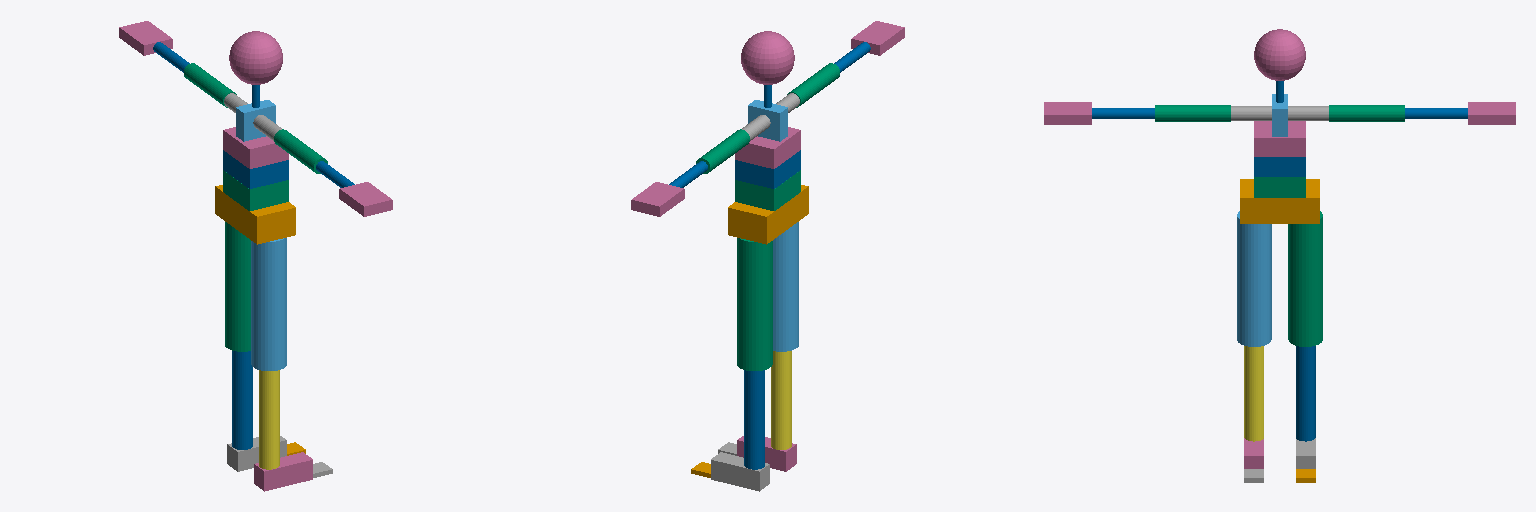
--- Render facts (derived) ---
3 views of the same robot in one strip: view 1: azimuth 30°, elevation 25°; view 2: azimuth 150°, elevation 25°; view 3: azimuth 270°, elevation 25° (orthographic).
Robot: XSensStyleModel_template — 49 links, 48 joints (48 revolute); root link Pelvis; default pose: all joints at 0.
Visible links, largest first — view 1: RightUpperLeg, LeftUpperLeg, Pelvis, Head, RightLowerLeg, LeftLowerLeg, T12, RightFoot, L5, L3, RightHand, LeftHand (+4 smaller); view 2: LeftUpperLeg, RightUpperLeg, Pelvis, Head, LeftLowerLeg, RightLowerLeg, T12, LeftFoot, L5, L3, LeftHand, RightHand (+4 smaller); view 3: RightUpperLeg, LeftUpperLeg, Pelvis, Head, RightLowerLeg, LeftLowerLeg, T12, RightUpperArm, LeftUpperArm, RightHand, LeftHand, L5 (+8 smaller).
Boxes of the visible links, <box> form: RightUpperLeg: <box>251,238,286,370</box>; LeftUpperLeg: <box>225,222,250,351</box>; Pelvis: <box>215,185,295,244</box>; Head: <box>229,31,282,84</box>; RightLowerLeg: <box>259,370,279,469</box>; LeftLowerLeg: <box>232,351,252,449</box>; T12: <box>223,127,288,168</box>; RightFoot: <box>254,452,312,491</box>; L5: <box>223,170,288,210</box>; L3: <box>223,150,288,188</box>; RightHand: <box>339,182,392,216</box>; LeftHand: <box>119,21,172,55</box>; LeftUpperLeg: <box>737,238,772,370</box>; RightUpperLeg: <box>773,222,798,351</box>; Pelvis: <box>728,185,808,244</box>; Head: <box>741,31,794,84</box>; LeftLowerLeg: <box>744,370,764,469</box>; RightLowerLeg: <box>771,351,791,449</box>; T12: <box>735,127,800,168</box>; LeftFoot: <box>711,452,769,491</box>; L5: <box>735,170,800,210</box>; L3: <box>735,150,800,188</box>; LeftHand: <box>631,182,684,216</box>; RightHand: <box>851,21,904,55</box>; RightUpperLeg: <box>1237,211,1271,346</box>; LeftUpperLeg: <box>1288,211,1322,346</box>; Pelvis: <box>1240,179,1319,223</box>; Head: <box>1254,29,1305,80</box>; RightLowerLeg: <box>1244,346,1263,441</box>; LeftLowerLeg: <box>1296,346,1315,441</box>; T12: <box>1254,121,1305,156</box>; RightUpperArm: <box>1155,105,1230,121</box>; LeftUpperArm: <box>1329,105,1404,121</box>; RightHand: <box>1044,102,1091,124</box>; LeftHand: <box>1468,102,1515,124</box>; L5: <box>1254,177,1305,197</box>.
Bounding box of the posed robot: 0.346 × 1.8 × 1.8 m (x, y, z).
Geometry: primitives only (box / cylinder / sphere), no mesh files.

URDF robot description (XSensStyleModel_template):
<!--URDF MODEL 48 DoFs-->

<robot name="XSensStyleModel_template">
<!--To open this model with Gazebo replace the null masses, inertias and dimensions of the 'fake links f1 and f2'-->
    <!--LINKS-->
	<!--Link base (1)-->
	<link name="Pelvis">
        <inertial>
            <mass value="5.696"/>
			<!--COM origin wrt pHipOrigin-->
            <origin xyz="0           0    0.059167" rpy="0 0 0" />
            <inertia ixx="0.050919" iyy="0.019195" izz="0.058056" ixy="0" ixz="0" iyz="0"/>
        </inertial>

        <visual>
			<!--box origin wrt pHipOrigin-->
            <origin xyz="0           0    0.059167" rpy="0 0 0" />
            <geometry>
                <box size="0.16655     0.30753      0.1127"/>
            </geometry>
        </visual>

        <collision>
			<!--box origin wrt pHipOrigin-->
            <origin xyz="0           0    0.059167" rpy="0 0 0" />
            <geometry>
                <box size="0.16655     0.30753      0.1127"/>
            </geometry>
        </collision>

    </link>
    <!--Chain from (2) to (7)-->
	<link name="L5_f1">
        <inertial>
            <mass value="0"/>
            <origin xyz="0 0 0" rpy="0 0 0" />
            <inertia ixx="0" iyy="0" izz="0" ixy="0" ixz="0" iyz="0"/>
        </inertial>
    </link>
	<link name="L5">
        <inertial>
            <mass value="7.2624"/>
			<!--COM origin wrt jL5S1-->
            <origin xyz="0           0    0.044881" rpy="0 0 0" />
            <inertia ixx="0.02831" iyy="0.021663" izz="0.040221" ixy="0" ixz="0" iyz="0"/>
        </inertial>

        <visual>
			<!--box origin origin wrt jL5S1-->
            <origin xyz="0           0    0.044881" rpy="0 0 0" />
            <geometry>
                <box size="0.16655     0.19678    0.089762"/>
            </geometry>
        </visual>

        <collision>
			<!--box origin origin wrt jL5S1-->
            <origin xyz="0           0    0.044881" rpy="0 0 0" />
            <geometry>
                <box size="0.16655     0.19678    0.089762"/>
            </geometry>
        </collision>
    </link>
	<link name="L3_f1">
        <inertial>
            <mass value="0"/>
            <origin xyz="0 0 0" rpy="0 0 0" />
            <inertia ixx="0" iyy="0" izz="0" ixy="0" ixz="0" iyz="0"/>
        </inertial>
    </link>
	<link name="L3">
        <inertial>
            <mass value="7.2624"/>
			<!--COM origin wrt jL4L3-->
            <origin xyz="0           0    0.040536" rpy="0 0 0" />
            <inertia ixx="0.027412" iyy="0.020764" izz="0.040221" ixy="0" ixz="0" iyz="0"/>
        </inertial>

        <visual>
			<!--box origin origin wrt jL4L3-->
            <origin xyz="0           0    0.040536" rpy="0 0 0" />
            <geometry>
                <box size="0.16655     0.19678    0.081071"/>
            </geometry>
        </visual>

        <collision>
			<!--box origin origin wrt jL4L3-->
            <origin xyz="0           0    0.040536" rpy="0 0 0" />
            <geometry>
                <box size="0.16655     0.19678    0.081071"/>
            </geometry>
        </collision>
    </link>
	<link name="T12_f1">
        <inertial>
            <mass value="0"/>
            <origin xyz="0 0 0" rpy="0 0 0" />
            <inertia ixx="0" iyy="0" izz="0" ixy="0" ixz="0" iyz="0"/>
        </inertial>
    </link>
	<link name="T12">
        <inertial>
            <mass value="7.2624"/>
			<!--COM origin wrt jL1T12-->
            <origin xyz="0           0    0.040536" rpy="0 0 0" />
            <inertia ixx="0.027412" iyy="0.020764" izz="0.040221" ixy="0" ixz="0" iyz="0"/>
        </inertial>

        <visual>
			<!--box origin origin wrt jL1T12-->
            <origin xyz="0           0    0.040536" rpy="0 0 0" />
            <geometry>
                <box size="0.16655     0.19678    0.081071"/>
            </geometry>
        </visual>

        <collision>
			<!--box origin origin wrt jL1T12-->
            <origin xyz="0           0    0.040536" rpy="0 0 0" />
            <geometry>
                <box size="0.16655     0.19678    0.081071"/>
            </geometry>
        </collision>
    </link>
	<link name="T8_f1">
        <inertial>
            <mass value="0"/>
            <origin xyz="0 0 0" rpy="0 0 0" />
            <inertia ixx="0" iyy="0" izz="0" ixy="0" ixz="0" iyz="0"/>
        </inertial>
    </link>
	<link name="T8_f2">
        <inertial>
            <mass value="0"/>
            <origin xyz="0 0 0" rpy="0 0 0" />
            <inertia ixx="0" iyy="0" izz="0" ixy="0" ixz="0" iyz="0"/>
        </inertial>
    </link>
	<link name="T8">
        <inertial>
            <mass value="2.848"/>
			<!--COM origin wrt jT9T8-->
            <origin xyz="0           0    0.058058" rpy="0 0 0" />
            <inertia ixx="0.0040381" iyy="0.0077541" izz="0.0053923" ixy="0" ixz="0" iyz="0"/>
        </inertial>

        <visual>
			<!--box origin wrt jT9T8-->
            <origin xyz="0           0    0.058058" rpy="0 0 0" />
            <geometry>
                <box size="0.13852    0.059426     0.11612"/>
            </geometry>
        </visual>

        <collision>
			<!--box origin wrt jT9T8-->
            <origin xyz="0           0    0.058058" rpy="0 0 0" />
            <geometry>
                <box size="0.13852    0.059426     0.11612"/>
            </geometry>
        </collision>

    </link>
	<link name="Neck_f1">
        <inertial>
            <mass value="0"/>
            <origin xyz="0 0 0" rpy="0 0 0" />
            <inertia ixx="0" iyy="0" izz="0" ixy="0" ixz="0" iyz="0"/>
        </inertial>
    </link>
	<link name="Neck_f2">
        <inertial>
            <mass value="0"/>
            <origin xyz="0 0 0" rpy="0 0 0" />
            <inertia ixx="0" iyy="0" izz="0" ixy="0" ixz="0" iyz="0"/>
        </inertial>
    </link>
	<link name="Neck">
        <inertial>
            <mass value="0.8544"/>
			<!--COM origin wrt jT1C7-->
            <origin xyz="0           0    0.048176" rpy="0 0 0" />
            <inertia ixx="0.00086442" iyy="0.00086442" izz="0.00040681" ixy="0" ixz="0" iyz="0"/>
        </inertial>

        <visual>
			<!--box origin wrt jT1C7-->
            <origin xyz="0           0    0.048176" rpy="0 0 0" />
            <geometry>
		<cylinder length="0.096353" radius="0.01543"/>
            </geometry>
        </visual>

        <collision>
			<!--box origin wrt jT1C7-->
            <origin xyz="0           0    0.048176" rpy="0 0 0" />
            <geometry>
                <cylinder length="0.096353" radius="0.01543"/>
            </geometry>
        </collision>
    </link>
	<link name="Head_f1">
        <inertial>
            <mass value="0"/>
            <origin xyz="0 0 0" rpy="0 0 0" />
            <inertia ixx="0" iyy="0" izz="0" ixy="0" ixz="0" iyz="0"/>
        </inertial>
    </link>
	<link name="Head">
        <inertial>
            <mass value="2.5632"/>
			<!--COM origin wrt jC1Head-->
            <origin xyz="0           0    0.099452" rpy="0 0 0" />
            <inertia ixx="0.010141" iyy="0.010141" izz="0.010141" ixy="0" ixz="0" iyz="0"/>
        </inertial>

        <visual>
			<!--boc origin wrt jC1Head-->
            <origin xyz="0           0    0.099452" rpy="0 0 0" />
            <geometry>
                <sphere radius="0.099452"/>
            </geometry>
        </visual>

        <collision>
			<!--box origin wrt jC1Head-->
            <origin xyz="0           0    0.099452" rpy="0 0 0" />
            <geometry>
                <sphere radius="0.099452"/>
            </geometry>
        </collision>

    </link>
	<!--Chain from (8) to (11)-->
	<link name="RightShoulder">
        <inertial>
            <mass value="2.2072"/>
			<!--COM origin wrt jRightC7Shoulder-->
            <origin xyz="0   -0.078854           0" rpy="0 0 0" />
            <inertia ixx="0.0050082" iyy="0.00086686" izz="0.0050082" ixy="0" ixz="0" iyz="0"/>
        </inertial>

        <visual>
			<!--box origin wrt jRightC7Shoulder. RPY rotated of pi/2.-->
            <origin xyz="0   -0.078854           0" rpy="1.5708 0 0" />
            <geometry>
                <cylinder length="0.15771" radius="0.028026"/>
            </geometry>
        </visual>

        <collision>
			<!--box origin wrt jRightC7Shoulder. RPY rotated of pi/2.-->
            <origin xyz="0   -0.078854           0" rpy="1.5708 0 0" />
            <geometry>
                <cylinder length="0.15771" radius="0.028026"/>
            </geometry>
        </collision>

    </link>
	<link name="RightUpperArm_f1">
        <inertial>
            <mass value="0"/>
            <origin xyz="0 0 0" rpy="0 0 0" />
            <inertia ixx="0" iyy="0" izz="0" ixy="0" ixz="0" iyz="0"/>
        </inertial>
    </link>
	<link name="RightUpperArm_f2">
        <inertial>
            <mass value="0"/>
            <origin xyz="0 0 0" rpy="0 0 0" />
            <inertia ixx="0" iyy="0" izz="0" ixy="0" ixz="0" iyz="0"/>
        </inertial>
    </link>
    <link name="RightUpperArm">
        <inertial>
            <mass value="2.136"/>
			<!--COM origin wrt jRightShoulder-->
            <origin xyz="0    -0.14573           0" rpy="0 0 0" />
            <inertia ixx="0.015663" iyy="0.0010831" izz="0.015663" ixy="0" ixz="0" iyz="0"/>
        </inertial>

        <visual>
			<!--box origin wrt jRightShoulder. RPY rotated of pi/2.-->
            <origin xyz="0    -0.14573           0" rpy="1.5708 0 0" />
            <geometry>
                <cylinder length="0.29147" radius="0.031846"/>
            </geometry>
        </visual>

        <collision>
			<!--box origin wrt jRightShoulder. RPY rotated of pi/2.-->
            <origin xyz="0    -0.14573           0" rpy="1.5708 0 0" />
            <geometry>
                <cylinder length="0.29147" radius="0.031846"/>
            </geometry>
        </collision>

    </link>
	<link name="RightForeArm_f1">
        <inertial>
            <mass value="0"/>
            <origin xyz="0 0 0" rpy="0 0 0" />
            <inertia ixx="0" iyy="0" izz="0" ixy="0" ixz="0" iyz="0"/>
        </inertial>
    </link>
	<link name="RightForeArm">
        <inertial>
            <mass value="1.424"/>
			<!--COM origin wrt jRightElbow-->
            <origin xyz="0    -0.12047           0" rpy="0 0 0" />
            <inertia ixx="0.0070493" iyy="0.00032093" izz="0.0070493" ixy="0" ixz="0" iyz="0"/>
        </inertial>

        <visual>
			<!--box origin wrt jRightElbow. RPY rotated of pi/2.-->
            <origin xyz="0    -0.12047           0" rpy="1.5708 0 0" />
            <geometry>
                <cylinder length="0.24094" radius="0.021231"/>
            </geometry>
        </visual>

        <collision>
			<!--box origin wrt jRightElbow. RPY rotated of pi/2.-->
            <origin xyz="0    -0.12047           0" rpy="1.5708 0 0" />
            <geometry>
                <cylinder length="0.24094" radius="0.021231"/>
            </geometry>
        </collision>

    </link>
	<link name="RightHand_f1">
        <inertial>
            <mass value="0"/>
            <origin xyz="0 0 0" rpy="0 0 0" />
            <inertia ixx="0" iyy="0" izz="0" ixy="0" ixz="0" iyz="0"/>
        </inertial>
    </link>
	<link name="RightHand">
        <inertial>
            <mass value="0.4272"/>
			<!--COM origin wrt jRightWrist-->
            <origin xyz="0   -0.090968           0" rpy="0 0 0" />
            <inertia ixx="0.0012426" iyy="0.00058792" izz="0.0017021" ixy="0" ixz="0" iyz="0"/>
        </inertial>

        <visual>
			<!--box origin wrt jRightWrist-->
            <origin xyz="0   -0.090968           0" rpy="0 0 0" />
            <geometry>
                <box size="0.12129     0.18194    0.042461"/>
            </geometry>
        </visual>

        <collision>
			<!--box origin wrt jRightWrist-->
            <origin xyz="0   -0.090968           0" rpy="0 0 0" />
            <geometry>
                <box size="0.12129     0.18194    0.042461"/>
            </geometry>
        </collision>

    </link>
	<!--Chain from (12) to (15)-->
	<link name="LeftShoulder">
        <inertial>
            <mass value="2.2072"/>
			<!--COM origin wrt jLeftC7Shoulder-->
            <origin xyz="0    0.078854           0" rpy="0 0 0" />
            <inertia ixx="0.0050082" iyy="0.00086686" izz="0.0050082" ixy="0" ixz="0" iyz="0"/>
        </inertial>

        <visual>
			<!--box origin wrt jLeftC7Shoulder. RPY rotated of pi/2.-->
            <origin xyz="0    0.078854           0" rpy="1.5708 0 0" />
            <geometry>
                <cylinder length="0.15771" radius="0.028026"/>
            </geometry>
        </visual>

        <collision>
			<!--box origin wrt jLeftC7Shoulder. RPY rotated of pi/2.-->
            <origin xyz="0    0.078854           0" rpy="1.5708 0 0" />
            <geometry>
                <cylinder length="0.15771" radius="0.028026"/>
            </geometry>
        </collision>

    </link>
	<link name="LeftUpperArm_f1">
        <inertial>
            <mass value="0"/>
            <origin xyz="0 0 0" rpy="0 0 0" />
            <inertia ixx="0" iyy="0" izz="0" ixy="0" ixz="0" iyz="0"/>
        </inertial>
    </link>
	<link name="LeftUpperArm_f2">
        <inertial>
            <mass value="0"/>
            <origin xyz="0 0 0" rpy="0 0 0" />
            <inertia ixx="0" iyy="0" izz="0" ixy="0" ixz="0" iyz="0"/>
        </inertial>
    </link>
	<link name="LeftUpperArm">
        <inertial>
            <mass value="2.136"/>
			<!--COM origin wrt jLeftShoulder-->
            <origin xyz="0     0.14573           0" rpy="0 0 0" />
            <inertia ixx="0.015663" iyy="0.0010831" izz="0.015663" ixy="0" ixz="0" iyz="0"/>
        </inertial>

        <visual>
			<!--box origin wrt jLeftShoulder. RPY rotated of pi/2.-->
            <origin xyz="0     0.14573           0" rpy="1.5708 0 0" />
            <geometry>
                <cylinder length="0.29147" radius="0.031846"/>
            </geometry>
        </visual>

        <collision>
			<!--box origin wrt jLeftShoulder. RPY rotated of pi/2.-->
            <origin xyz="0     0.14573           0" rpy="1.5708 0 0" />
            <geometry>
                <cylinder length="0.29147" radius="0.031846"/>
            </geometry>
        </collision>

    </link>
	<link name="LeftForeArm_f1">
        <inertial>
            <mass value="0"/>
            <origin xyz="0 0 0" rpy="0 0 0" />
            <inertia ixx="0" iyy="0" izz="0" ixy="0" ixz="0" iyz="0"/>
        </inertial>
    </link>
	<link name="LeftForeArm">
        <inertial>
            <mass value="1.424"/>
			<!--COM origin wrt jLeftElbow-->
            <origin xyz="0     0.12047           0" rpy="0 0 0" />
            <inertia ixx="0.0070493" iyy="0.00032093" izz="0.0070493" ixy="0" ixz="0" iyz="0"/>
        </inertial>

        <visual>
			<!--box origin wrt jLeftElbow. RPY rotated of pi/2.-->
            <origin xyz="0     0.12047           0" rpy="1.5708 0 0" />
            <geometry>
                <cylinder length="0.24094" radius="0.021231"/>
            </geometry>
        </visual>

        <collision>
			<!--box origin wrt jLeftElbow. RPY rotated of pi/2.-->
            <origin xyz="0     0.12047           0" rpy="1.5708 0 0" />
            <geometry>
                <cylinder length="0.24094" radius="0.021231"/>
            </geometry>
        </collision>

    </link>
	<link name="LeftHand_f1">
        <inertial>
            <mass value="0"/>
            <origin xyz="0 0 0" rpy="0 0 0" />
            <inertia ixx="0" iyy="0" izz="0" ixy="0" ixz="0" iyz="0"/>
        </inertial>
    </link>
	<link name="LeftHand">
        <inertial>
            <mass value="0.4272"/>
			<!--COM origin wrt jLeftWrist-->
            <origin xyz="0    0.090968           0" rpy="0 0 0" />
            <inertia ixx="0.0012426" iyy="0.00058792" izz="0.0017021" ixy="0" ixz="0" iyz="0"/>
        </inertial>

        <visual>
			<!--COM origin wrt jLeftWrist-->
            <origin xyz="0    0.090968           0" rpy="0 0 0" />
            <geometry>
                <box size="0.12129     0.18194    0.042461"/>
            </geometry>
        </visual>

        <collision>
			<!--COM origin wrt jLeftWrist-->
            <origin xyz="0    0.090968           0" rpy="0 0 0" />
            <geometry>
                <box size="0.12129     0.18194    0.042461"/>
            </geometry>
        </collision>

    </link>
	<!--Chain from (16) to (19)-->
	<link name="RightUpperLeg_f1">
        <inertial>
            <mass value="0"/>
            <origin xyz="0 0 0" rpy="0 0 0" />
            <inertia ixx="0" iyy="0" izz="0" ixy="0" ixz="0" iyz="0"/>
        </inertial>
    </link>
	<link name="RightUpperLeg_f2">
        <inertial>
            <mass value="0"/>
            <origin xyz="0 0 0" rpy="0 0 0" />
            <inertia ixx="0" iyy="0" izz="0" ixy="0" ixz="0" iyz="0"/>
        </inertial>
    </link>
    <link name="RightUpperLeg">
        <inertial>
            <mass value="8.9"/>
			<!--COM origin wrt jRightHip-->
            <origin xyz="0           0    -0.26304" rpy="0 0 0" />
            <inertia ixx="0.21503" iyy="0.21503" izz="0.019525" ixy="0" ixz="0" iyz="0"/>
        </inertial>

        <visual>
			<!--box origin wrt jRightHip-->
            <origin xyz="0           0    -0.26304" rpy="0 0 0" />
            <geometry>
                <cylinder length="0.52609" radius="0.066238"/>
            </geometry>
        </visual>

        <collision>
			<!--box origin wrt jRightHip-->
            <origin xyz="0           0    -0.26304" rpy="0 0 0" />
            <geometry>
                <cylinder length="0.52609" radius="0.066238"/>
            </geometry>
        </collision>

    </link>
	<link name="RightLowerLeg_f1">
        <inertial>
            <mass value="0"/>
            <origin xyz="0 0 0" rpy="0 0 0" />
            <inertia ixx="0" iyy="0" izz="0" ixy="0" ixz="0" iyz="0"/>
        </inertial>
    </link>
    <link name="RightLowerLeg">
        <inertial>
            <mass value="2.5988"/>
			<!--COM origin wrt jRightKnee-->
            <origin xyz="0           0    -0.20614" rpy="0 0 0" />
            <inertia ixx="0.037755" iyy="0.037755" izz="0.0018892" ixy="0" ixz="0" iyz="0"/>
        </inertial>

        <visual>
			<!--box origin wrt jRightKnee-->
            <origin xyz="0           0    -0.20614" rpy="0 0 0" />
            <geometry>
                <cylinder length="0.41228" radius="0.03813"/>
            </geometry>
        </visual>

        <collision>
			<!--box origin wrt jRightKnee-->
            <origin xyz="0           0    -0.20614" rpy="0 0 0" />
            <geometry>
                <cylinder length="0.41228" radius="0.03813"/>
            </geometry>
        </collision>

    </link>
	<link name="RightFoot_f1">
        <inertial>
            <mass value="0"/>
            <origin xyz="0 0 0" rpy="0 0 0" />
            <inertia ixx="0" iyy="0" izz="0" ixy="0" ixz="0" iyz="0"/>
        </inertial>
    </link>
	<link name="RightFoot_f2">
        <inertial>
            <mass value="0"/>
            <origin xyz="0 0 0" rpy="0 0 0" />
            <inertia ixx="0" iyy="0" izz="0" ixy="0" ixz="0" iyz="0"/>
        </inertial>
    </link>
    <link name="RightFoot">
        <inertial>
            <mass value="0.9256"/>
			<!--COM origin wrt jRightAnkle-->
            <origin xyz="0.061581           0   -0.040628" rpy="0 0 0" />
            <inertia ixx="0.00095786" iyy="0.0038434" izz="0.0037827" ixy="0" ixz="0" iyz="0"/>
        </inertial>

        <visual>
			<!--box origin wrt jRightAnkle-->
	    	<origin xyz="0.061581           0   -0.040628" rpy="0 0 0" />
            <geometry>
                <box size="0.20791     0.07626    0.081257"/>
            </geometry>
        </visual>

        <collision>
			<!--box origin wrt jRightAnkle-->
		    <origin xyz="0.061581           0   -0.040628" rpy="0 0 0" />
	            <geometry>
	                <box size="0.20791     0.07626    0.081257"/>
	            </geometry>
        </collision>

    </link>
    <link name="RightToe">
        <inertial>
            <mass value="0.1068"/>
			<!--COM origin wrt jRightBallFoot-->
            <origin xyz="0.041044           0           0" rpy="0 0 0" />
            <inertia ixx="5.4675e-05" iyy="6.289e-05" izz="0.00011173" ixy="0" ixz="0" iyz="0"/>
        </inertial>

        <visual>
			<!--box origin wrt jRightBallFoot-->
            <origin xyz="0.041044           0           0" rpy="0 0 0" />
            <geometry>
                <box size="0.082089     0.07626    0.018102"/>
            </geometry>
        </visual>

        <collision>
			<!--box origin wrt jRightBallFoot-->
            <origin xyz="0.041044           0           0" rpy="0 0 0" />
            <geometry>
                <box size="0.082089     0.07626    0.018102"/>
            </geometry>
        </collision>
    </link>
	<!--Chain from (20) to (23)-->
	<link name="LeftUpperLeg_f1">
        <inertial>
            <mass value="0"/>
            <origin xyz="0 0 0" rpy="0 0 0" />
            <inertia ixx="0" iyy="0" izz="0" ixy="0" ixz="0" iyz="0"/>
        </inertial>
    </link>
	<link name="LeftUpperLeg_f2">
        <inertial>
            <mass value="0"/>
            <origin xyz="0 0 0" rpy="0 0 0" />
            <inertia ixx="0" iyy="0" izz="0" ixy="0" ixz="0" iyz="0"/>
        </inertial>
    </link>
    <link name="LeftUpperLeg">
        <inertial>
            <mass value="8.9"/>
			<!--COM origin wrt jLeftHip-->
            <origin xyz="0           0    -0.26304" rpy="0 0 0" />
            <inertia ixx="0.21503" iyy="0.21503" izz="0.019525" ixy="0" ixz="0" iyz="0"/>
        </inertial>

        <visual>
			<!--box origin wrt jLeftHip-->
            <origin xyz="0           0    -0.26304" rpy="0 0 0" />
            <geometry>
                <cylinder length="0.52609" radius="0.066238"/>
            </geometry>
        </visual>

        <collision>
			<!--box origin wrt jLeftHip-->
            <origin xyz="0           0    -0.26304" rpy="0 0 0" />
            <geometry>
                <cylinder length="0.52609" radius="0.066238"/>
            </geometry>
        </collision>

    </link>
	<link name="LeftLowerLeg_f1">
        <inertial>
            <mass value="0"/>
            <origin xyz="0 0 0" rpy="0 0 0" />
            <inertia ixx="0" iyy="0" izz="0" ixy="0" ixz="0" iyz="0"/>
        </inertial>
    </link>
	<link name="LeftLowerLeg">
        <inertial>
            <mass value="2.5988"/>
			<!--COM origin wrt jLeftKnee-->
            <origin xyz="0           0    -0.20614" rpy="0 0 0" />
            <inertia ixx="0.037755" iyy="0.037755" izz="0.0018892" ixy="0" ixz="0" iyz="0"/>
        </inertial>

        <visual>
			<!--box origin wrt jLeftKnee-->
            <origin xyz="0           0    -0.20614" rpy="0 0 0" />
            <geometry>
		<cylinder length="0.41228" radius="0.03813"/>
            </geometry>
        </visual>

        <collision>
			<!--box origin wrt jLeftKnee-->
            <origin xyz="0           0    -0.20614" rpy="0 0 0" />
            <geometry>
		<cylinder length="0.41228" radius="0.03813"/>
            </geometry>
        </collision>

    </link>
	<link name="LeftFoot_f1">
        <inertial>
            <mass value="0"/>
            <origin xyz="0 0 0" rpy="0 0 0" />
            <inertia ixx="0" iyy="0" izz="0" ixy="0" ixz="0" iyz="0"/>
        </inertial>
    </link>
	<link name="LeftFoot_f2">
        <inertial>
            <mass value="0"/>
            <origin xyz="0 0 0" rpy="0 0 0" />
            <inertia ixx="0" iyy="0" izz="0" ixy="0" ixz="0" iyz="0"/>
        </inertial>
    </link>
    <link name="LeftFoot">
        <inertial>
            <mass value="0.9256"/>
			<!--COM origin wrt jLeftAnkle-->
            <origin xyz="0.061581           0   -0.040628" rpy="0 0 0" />
            <inertia ixx="0.00095786" iyy="0.0038434" izz="0.0037827" ixy="0" ixz="0" iyz="0"/>
        </inertial>

        <visual>
			<!--box origin wrt jLeftAnkle-->
	   	 	<origin xyz="0.061581           0   -0.040628" rpy="0 0 0" />
            <geometry>
                <box size="0.20791     0.07626    0.081257"/>
            </geometry>
        </visual>

        <collision>
			<!--box origin wrt jLeftAnkle-->
		    <origin xyz="0.061581           0   -0.040628" rpy="0 0 0" />
	            <geometry>
	                <box size="0.20791     0.07626    0.081257"/>
	            </geometry>
        </collision>

    </link>
	<link name="LeftToe">
        <inertial>
            <mass value="0.1068"/>
			<!--COM origin wrt jLeftBallFoot-->
            <origin xyz="0.041044           0           0" rpy="0 0 0" />
            <inertia ixx="5.4675e-05" iyy="6.289e-05" izz="0.00011173" ixy="0" ixz="0" iyz="0"/>
        </inertial>

        <visual>
			<!--box origin wrt jLeftBallFoot-->
            <origin xyz="0.041044           0           0" rpy="0 0 0" />
            <geometry>
                <box size="0.082089     0.07626    0.018102"/>
            </geometry>
        </visual>

        <collision>
			<!--box origin wrt jLeftBallFoot-->
            <origin xyz="0.041044           0           0" rpy="0 0 0" />
            <geometry>
                <box size="0.082089     0.07626    0.018102"/>
            </geometry>
        </collision>
    </link>


	<!--JOINTS-->
	<!--Chain from (2) to (7)-->
	<joint name="jL5S1_rotx" type="revolute">
        <origin xyz="-0.000575           0     0.11552" rpy="0 0 0"/>
        <parent link="Pelvis"/>
        <child link="L5_f1"/>
        <dynamics damping="0.1" friction="0.0"/>
        <limit effort="30" velocity="1.0" lower="-0.610865" upper="0.610865" />
        <axis xyz="1 0 0" />
    </joint>
	<joint name="jL5S1_roty" type="revolute">
        <origin xyz="0 0 0" rpy="0 0 0"/>
        <parent link="L5_f1"/>
        <child link="L5"/>
        <dynamics damping="0.1" friction="0.0"/>
        <limit effort="30" velocity="1.0" lower="-0.523599" upper="1.309" />
        <axis xyz="0 1 0" />
    </joint>
	<joint name="jL4L3_rotx" type="revolute">
        <origin xyz="0.001044           0    0.089762" rpy="0 0 0"/>
        <parent link="L5"/>
        <child link="L3_f1"/>
        <dynamics damping="0.1" friction="0.0"/>
        <limit effort="30" velocity="1.0" lower="-0.610865" upper="0.610865" />
        <axis xyz="1 0 0" />
    </joint>
	<joint name="jL4L3_roty" type="revolute">
        <origin xyz="0 0 0" rpy="0 0 0"/>
        <parent link="L3_f1"/>
        <child link="L3"/>
        <dynamics damping="0.1" friction="0.0"/>
        <limit effort="30" velocity="1.0" lower="-0.523599" upper="1.309" />
        <axis xyz="0 1 0" />
    </joint>
	<joint name="jL1T12_rotx" type="revolute">
        <origin xyz="0           0    0.081071" rpy="0 0 0"/>
        <parent link="L3"/>
        <child link="T12_f1"/>
        <dynamics damping="0.1" friction="0.0"/>
        <limit effort="30" velocity="1.0" lower="-0.610865" upper="0.610865" />
        <axis xyz="1 0 0" />
    </joint>
	<joint name="jL1T12_roty" type="revolute">
        <origin xyz="0 0 0" rpy="0 0 0"/>
        <parent link="T12_f1"/>
        <child link="T12"/>
        <dynamics damping="0.1" friction="0.0"/>
        <limit effort="30" velocity="1.0" lower="-0.523599" upper="1.309" />
        <axis xyz="0 1 0" />
    </joint>
	<joint name="jT9T8_rotx" type="revolute">
        <origin xyz="0           0    0.081071" rpy="0 0 0"/>
        <parent link="T12"/>
        <child link="T8_f1"/>
        <dynamics damping="0.1" friction="0.0"/>
        <limit effort="30" velocity="1.0" lower="-0.349066" upper="0.349066" />
        <axis xyz="1 0 0" />
    </joint>
	<joint name="jT9T8_roty" type="revolute">
        <origin xyz="0 0 0" rpy="0 0 0"/>
        <parent link="T8_f1"/>
        <child link="T8_f2"/>
        <dynamics damping="0.1" friction="0.0"/>
        <limit effort="30" velocity="1.0" lower="-0.261799" upper="0.698132" />
        <axis xyz="0 1 0" />
    </joint>
    <joint name="jT9T8_rotz" type="revolute">
        <origin xyz="0 0 0" rpy="0 0 0"/>
        <parent link="T8_f2"/>
        <child link="T8"/>
        <dynamics damping="0.1" friction="0.0"/>
        <limit effort="30" velocity="1.0" lower="-0.610865" upper="0.610865" />
        <axis xyz="0 0 1" />
    </joint>
	<joint name="jT1C7_rotx" type="revolute">
        <origin xyz="0           0     0.11612" rpy="0 0 0"/>
        <parent link="T8"/>
        <child link="Neck_f1"/>
        <dynamics damping="0.1" friction="0.0"/>
        <limit effort="30" velocity="1.0" lower="-0.610865" upper="0.610865" />
        <axis xyz="1 0 0" />
    </joint>
	<joint name="jT1C7_roty" type="revolute">
        <origin xyz="0 0 0" rpy="0 0 0"/>
        <parent link="Neck_f1"/>
        <child link="Neck_f2"/>
        <dynamics damping="0.1" friction="0.0"/>
        <limit effort="30" velocity="1.0" lower="-0.959931" upper="1.5708" />
        <axis xyz="0 1 0" />
    </joint>
    <joint name="jT1C7_rotz" type="revolute">
        <origin xyz="0 0 0" rpy="0 0 0"/>
        <parent link="Neck_f2"/>
        <child link="Neck"/>
        <dynamics damping="0.1" friction="0.0"/>
        <limit effort="30" velocity="1.0" lower="-1.22173" upper="1.22173" />
        <axis xyz="0 0 1" />
    </joint>
	<joint name="jC1Head_rotx" type="revolute">
        <origin xyz="0.000829           0    0.096353" rpy="0 0 0"/>
        <parent link="Neck"/>
        <child link="Head_f1"/>
        <dynamics damping="0.1" friction="0.0"/>
        <limit effort="30" velocity="1.0" lower="-0.610865" upper="0.610865" />
        <axis xyz="1 0 0" />
    </joint>
	<joint name="jC1Head_roty" type="revolute">
        <origin xyz="0 0 0" rpy="0 0 0"/>
        <parent link="Head_f1"/>
        <child link="Head"/>
        <dynamics damping="0.1" friction="0.0"/>
        <limit effort="30" velocity="1.0" lower="-0.436332" upper="0.174533" />
        <axis xyz="0 1 0" />
    </joint>
	<!--Chain from (8) to (11)-->
	<joint name="jRightC7Shoulder_rotx" type="revolute">
        <origin xyz="0   -0.029713    0.065446" rpy="0 0 0"/>
        <parent link="T8"/>
        <child link="RightShoulder"/>
        <dynamics damping="0.1" friction="0.0"/>
        <limit effort="30" velocity="1.0" lower="-0.0872665" upper="0.785398" />
        <axis xyz="1 0 0" />
    </joint>
	<joint name="jRightShoulder_rotx" type="revolute">
        <origin xyz="0    -0.15771           0" rpy="0 0 0"/>
        <parent link="RightShoulder"/>
        <child link="RightUpperArm_f1"/>
        <dynamics damping="0.1" friction="0.0"/>
        <limit effort="30" velocity="1.0" lower="-2.35619" upper="1.5708" />
        <axis xyz="1 0 0" />
    </joint>
	<joint name="jRightShoulder_roty" type="revolute">
        <origin xyz="0 0 0" rpy="0 0 0"/>
        <parent link="RightUpperArm_f1"/>
        <child link="RightUpperArm_f2"/>
        <dynamics damping="0.1" friction="0.0"/>
        <limit effort="30" velocity="1.0" lower="-1.5708" upper="1.5708" />
        <axis xyz="0 1 0" />
    </joint>
    <joint name="jRightShoulder_rotz" type="revolute">
        <origin xyz="0 0 0" rpy="0 0 0"/>
        <parent link="RightUpperArm_f2"/>
        <child link="RightUpperArm"/>
        <dynamics damping="0.1" friction="0.0"/>
        <limit effort="30" velocity="1.0" lower="-0.785398" upper="3.14159" />
        <axis xyz="0 0 1" />
    </joint>
	<joint name="jRightElbow_roty" type="revolute">
        <origin xyz="0    -0.29147           0" rpy="0 0 0"/>
        <parent link="RightUpperArm"/>
        <child link="RightForeArm_f1"/>
        <dynamics damping="0.1" friction="0.0"/>
        <limit effort="30" velocity="1.0" lower="-1.5708" upper="1.48353" />
        <axis xyz="0 1 0" />
    </joint>
	<joint name="jRightElbow_rotz" type="revolute">
        <origin xyz="0 0 0" rpy="0 0 0"/>
        <parent link="RightForeArm_f1"/>
        <child link="RightForeArm"/>
        <dynamics damping="0.1" friction="0.0"/>
        <limit effort="30" velocity="1.0" lower="0" upper="2.53073" />
        <axis xyz="0 0 1" />
    </joint>
	<joint name="jRightWrist_rotx" type="revolute">
        <origin xyz="0.000102    -0.24094           0" rpy="0 0 0"/>
        <parent link="RightForeArm"/>
        <child link="RightHand_f1"/>
        <dynamics damping="0.1" friction="0.0"/>
        <limit effort="30" velocity="1.0" lower="-0.872665" upper="1.0472" />
        <axis xyz="1 0 0" />
    </joint>
	<joint name="jRightWrist_rotz" type="revolute">
        <origin xyz="0 0 0" rpy="0 0 0"/>
        <parent link="RightHand_f1"/>
        <child link="RightHand"/>
        <dynamics damping="0.1" friction="0.0"/>
        <limit effort="30" velocity="1.0" lower="-0.523599" upper="0.349066" />
        <axis xyz="0 0 1" />
    </joint>
	<!--Chain from (12) to (15)-->
	<joint name="jLeftC7Shoulder_rotx" type="revolute">
        <origin xyz="0    0.029713    0.065446" rpy="0 0 0"/>
        <parent link="T8"/>
        <child link="LeftShoulder"/>
        <dynamics damping="0.1" friction="0.0"/>
        <limit effort="30" velocity="1.0" lower="-0.0872665" upper="0.785398" />
        <axis xyz="1 0 0" />
    </joint>
	<joint name="jLeftShoulder_rotx" type="revolute">
        <origin xyz="0     0.15771           0" rpy="0 0 0"/>
        <parent link="LeftShoulder"/>
        <child link="LeftUpperArm_f1"/>
        <dynamics damping="0.1" friction="0.0"/>
        <limit effort="30" velocity="1.0" lower="-1.5708" upper="2.35619" />
        <axis xyz="1 0 0" />
    </joint>
	<joint name="jLeftShoulder_roty" type="revolute">
        <origin xyz="0 0 0" rpy="0 0 0"/>
        <parent link="LeftUpperArm_f1"/>
        <child link="LeftUpperArm_f2"/>
        <dynamics damping="0.1" friction="0.0"/>
        <limit effort="30" velocity="1.0" lower="-1.5708" upper="1.5708" />
        <axis xyz="0 1 0" />
    </joint>
    <joint name="jLeftShoulder_rotz" type="revolute">
        <origin xyz="0 0 0" rpy="0 0 0"/>
        <parent link="LeftUpperArm_f2"/>
        <child link="LeftUpperArm"/>
        <dynamics damping="0.1" friction="0.0"/>
        <limit effort="30" velocity="1.0" lower="-3.14159" upper="0.785398" />
        <axis xyz="0 0 1" />
    </joint>
    <joint name="jLeftElbow_roty" type="revolute">
        <origin xyz="0     0.29147           0" rpy="0 0 0"/>
        <parent link="LeftUpperArm"/>
        <child link="LeftForeArm_f1"/>
        <dynamics damping="0.1" friction="0.0"/>
        <limit effort="30" velocity="1.0" lower="-1.5708" upper="1.48353" />
        <axis xyz="0 1 0" />
    </joint>
    <joint name="jLeftElbow_rotz" type="revolute">
        <origin xyz="0 0 0" rpy="0 0 0"/>
        <parent link="LeftForeArm_f1"/>
        <child link="LeftForeArm"/>
        <dynamics damping="0.1" friction="0.0"/>
        <limit effort="30" velocity="1.0" lower="-2.53073" upper="0" />
        <axis xyz="0 0 1" />
    </joint>
	<joint name="jLeftWrist_rotx" type="revolute">
        <origin xyz="0.000102     0.24094           0" rpy="0 0 0"/>
        <parent link="LeftForeArm"/>
        <child link="LeftHand_f1"/>
        <dynamics damping="0.1" friction="0.0"/>
        <limit effort="30" velocity="1.0" lower="-1.0472" upper="0.872665" />
        <axis xyz="1 0 0" />
    </joint>
	<joint name="jLeftWrist_rotz" type="revolute">
        <origin xyz="0 0 0" rpy="0 0 0"/>
        <parent link="LeftHand_f1"/>
        <child link="LeftHand"/>
        <dynamics damping="0.1" friction="0.0"/>
        <limit effort="30" velocity="1.0" lower="-0.349066" upper="0.523599" />
        <axis xyz="0 0 1" />
    </joint>
	<!--Chain from (16) to (19)-->
	<joint name="jRightHip_rotx" type="revolute">
        <origin xyz="0.000287   -0.098388    0.002817" rpy="0 0 0"/>
        <parent link="Pelvis"/>
        <child link="RightUpperLeg_f1"/>
        <dynamics damping="0.1" friction="0.0"/>
        <limit effort="30" velocity="1.0" lower="-0.523599" upper="0.785398" />
        <axis xyz="1 0 0" />
    </joint>
	<joint name="jRightHip_roty" type="revolute">
        <origin xyz="0 0 0" rpy="0 0 0"/>
        <parent link="RightUpperLeg_f1"/>
        <child link="RightUpperLeg_f2"/>
        <dynamics damping="0.1" friction="0.0"/>
        <limit effort="30" velocity="1.0" lower="-0.261799" upper="2.0944" />
        <axis xyz="0 1 0" />
    </joint>
    <joint name="jRightHip_rotz" type="revolute">
        <origin xyz="0 0 0" rpy="0 0 0"/>
        <parent link="RightUpperLeg_f2"/>
        <child link="RightUpperLeg"/>
        <dynamics damping="0.1" friction="0.0"/>
        <limit effort="30" velocity="1.0" lower="-0.785398" upper="0.785398" />
        <axis xyz="0 0 1" />
    </joint>
	<joint name="jRightKnee_roty" type="revolute">
        <origin xyz="3e-05           0    -0.52609" rpy="0 0 0"/>
        <parent link="RightUpperLeg"/>
        <child link="RightLowerLeg_f1"/>
        <dynamics damping="0.1" friction="0.0"/>
        <limit effort="30" velocity="1.0" lower="0" upper="2.35619" />
        <axis xyz="0 1 0" />
    </joint>
	<joint name="jRightKnee_rotz" type="revolute">
        <origin xyz="0 0 0" rpy="0 0 0"/>
        <parent link="RightLowerLeg_f1"/>
        <child link="RightLowerLeg"/>
        <dynamics damping="0.1" friction="0.0"/>
        <limit effort="30" velocity="1.0" lower="-0.698132" upper="0.523599" />
        <axis xyz="0 0 1" />
    </joint>
	<joint name="jRightAnkle_rotx" type="revolute">
        <origin xyz="-0.0001           0    -0.41228" rpy="0 0 0"/>
        <parent link="RightLowerLeg"/>
        <child link="RightFoot_f1"/>
        <dynamics damping="0.1" friction="0.0"/>
        <limit effort="30" velocity="1.0" lower="-0.610865" upper="0.785398" />
        <axis xyz="1 0 0" />
    </joint>
	<joint name="jRightAnkle_roty" type="revolute">
        <origin xyz="0 0 0" rpy="0 0 0"/>
        <parent link="RightFoot_f1"/>
        <child link="RightFoot_f2"/>
        <dynamics damping="0.1" friction="0.0"/>
        <limit effort="30" velocity="1.0" lower="-0.523599" upper="0.872665" />
        <axis xyz="0 1 0" />
    </joint>
    <joint name="jRightAnkle_rotz" type="revolute">
        <origin xyz="0 0 0" rpy="0 0 0"/>
        <parent link="RightFoot_f2"/>
        <child link="RightFoot"/>
        <dynamics damping="0.1" friction="0.0"/>
        <limit effort="30" velocity="1.0" lower="-0.436332" upper="0.872665" />
        <axis xyz="0 0 1" />
    </joint>
	<joint name="jRightBallFoot_roty" type="revolute">
        <origin xyz="0.16553           0   -0.067444" rpy="0 0 0"/>
        <parent link="RightFoot"/>
        <child link="RightToe"/>
        <dynamics damping="0.1" friction="0.0"/>
        <limit effort="30" velocity="1.0" lower="-0.174533" upper="1.5708" />
        <axis xyz="0 1 0" />
    </joint>
	<!--Chain from (20) to (23)-->
	<joint name="jLeftHip_rotx" type="revolute">
        <origin xyz="0.000287    0.098388    0.002817" rpy="0 0 0"/>
        <parent link="Pelvis"/>
        <child link="LeftUpperLeg_f1"/>
        <dynamics damping="0.1" friction="0.0"/>
        <limit effort="30" velocity="1.0" lower="-0.523599" upper="0.785398" />
        <axis xyz="1 0 0" />
    </joint>
	<joint name="jLeftHip_roty" type="revolute">
        <origin xyz="0 0 0" rpy="0 0 0"/>
        <parent link="LeftUpperLeg_f1"/>
        <child link="LeftUpperLeg_f2"/>
        <dynamics damping="0.1" friction="0.0"/>
        <limit effort="30" velocity="1.0" lower="-0.261799" upper="2.0944" />
        <axis xyz="0 1 0" />
    </joint>
    <joint name="jLeftHip_rotz" type="revolute">
        <origin xyz="0 0 0" rpy="0 0 0"/>
        <parent link="LeftUpperLeg_f2"/>
        <child link="LeftUpperLeg"/>
        <dynamics damping="0.1" friction="0.0"/>
        <limit effort="30" velocity="1.0" lower="-0.785398" upper="0.785398" />
        <axis xyz="0 0 1" />
    </joint>
	<joint name="jLeftKnee_roty" type="revolute">
        <origin xyz="3e-05           0    -0.52609" rpy="0 0 0"/>
        <parent link="LeftUpperLeg"/>
        <child link="LeftLowerLeg_f1"/>
        <dynamics damping="0.1" friction="0.0"/>
        <limit effort="30" velocity="1.0" lower="0" upper="2.35619" />
        <axis xyz="0 1 0" />
    </joint>
    <joint name="jLeftKnee_rotz" type="revolute">
        <origin xyz="0 0 0" rpy="0 0 0"/>
        <parent link="LeftLowerLeg_f1"/>
        <child link="LeftLowerLeg"/>
        <dynamics damping="0.1" friction="0.0"/>
        <limit effort="30" velocity="1.0" lower="-0.523599" upper="0.698132" />
        <axis xyz="0 0 1" />
    </joint>
	<joint name="jLeftAnkle_rotx" type="revolute">
        <origin xyz="-0.0001           0    -0.41228" rpy="0 0 0"/>
        <parent link="LeftLowerLeg"/>
        <child link="LeftFoot_f1"/>
        <dynamics damping="0.1" friction="0.0"/>
        <limit effort="30" velocity="1.0" lower="-0.610865" upper="0.785398" />
        <axis xyz="1 0 0" />
    </joint>
	<joint name="jLeftAnkle_roty" type="revolute">
        <origin xyz="0 0 0" rpy="0 0 0"/>
        <parent link="LeftFoot_f1"/>
        <child link="LeftFoot_f2"/>
        <dynamics damping="0.1" friction="0.0"/>
        <limit effort="30" velocity="1.0" lower="-0.523599" upper="0.872665" />
        <axis xyz="0 1 0" />
    </joint>
    <joint name="jLeftAnkle_rotz" type="revolute">
        <origin xyz="0 0 0" rpy="0 0 0"/>
        <parent link="LeftFoot_f2"/>
        <child link="LeftFoot"/>
        <dynamics damping="0.1" friction="0.0"/>
        <limit effort="30" velocity="1.0" lower="-0.872665" upper="0.436332" />
        <axis xyz="0 0 1" />
    </joint>
	<joint name="jLeftBallFoot_roty" type="revolute">
        <origin xyz="0.16553           0   -0.067444" rpy="0 0 0"/>
        <parent link="LeftFoot"/>
        <child link="LeftToe"/>
        <dynamics damping="0.1" friction="0.0"/>
        <limit effort="30" velocity="1.0" lower="-0.174533" upper="1.5708" />
        <axis xyz="0 1 0" />
    </joint>

	<!-- Sensor  1-->
<sensor name="Pelvis_gyro" type="gyroscope">
<parent link="Pelvis"/>
<origin xyz="-0.068488 -3.8658e-07     0.11696" rpy="-0.27051      1.3344      2.7093"/>
</sensor>
<sensor name="Pelvis_accelerometer" type="accelerometer">
<parent link="Pelvis"/>
<origin xyz="-0.068488 -3.8658e-07     0.11696" rpy="-0.27051      1.3344      2.7093"/>
</sensor>
<!-- Sensor  2-->
<sensor name="T8_gyro" type="gyroscope">
<parent link="T8"/>
<origin xyz="0.12929  8.9756e-08    0.071108" rpy="0.38721      1.2683     0.24211"/>
</sensor>
<sensor name="T8_accelerometer" type="accelerometer">
<parent link="T8"/>
<origin xyz="0.12929  8.9756e-08    0.071108" rpy="0.38721      1.2683     0.24211"/>
</sensor>
<!-- Sensor  3-->
<sensor name="Head_gyro" type="gyroscope">
<parent link="Head"/>
<origin xyz="-0.077436 -1.1223e-07    0.085116" rpy="-2.4386    -0.21231      1.6195"/>
</sensor>
<sensor name="Head_accelerometer" type="accelerometer">
<parent link="Head"/>
<origin xyz="-0.077436 -1.1223e-07    0.085116" rpy="-2.4386    -0.21231      1.6195"/>
</sensor>
<!-- Sensor  4-->
<sensor name="RightShoulder_gyro" type="gyroscope">
<parent link="RightShoulder"/>
<origin xyz="-0.022421   -0.056053   -0.067264" rpy="1.2409      -0.251     -1.4752"/>
</sensor>
<sensor name="RightShoulder_accelerometer" type="accelerometer">
<parent link="RightShoulder"/>
<origin xyz="-0.022421   -0.056053   -0.067264" rpy="1.2409      -0.251     -1.4752"/>
</sensor>
<!-- Sensor  5-->
<sensor name="RightUpperArm_gyro" type="gyroscope">
<parent link="RightUpperArm"/>
<origin xyz="-0.019597   -0.097988    0.019598" rpy="-0.023852    0.034416     -1.4836"/>
</sensor>
<sensor name="RightUpperArm_accelerometer" type="accelerometer">
<parent link="RightUpperArm"/>
<origin xyz="-0.019597   -0.097988    0.019598" rpy="-0.023852    0.034416     -1.4836"/>
</sensor>
<!-- Sensor  6-->
<sensor name="RightForeArm_gyro" type="gyroscope">
<parent link="RightForeArm"/>
<origin xyz="0.0018228     -0.1988    0.019855" rpy="-0.23839    0.042417      -1.238"/>
</sensor>
<sensor name="RightForeArm_accelerometer" type="accelerometer">
<parent link="RightForeArm"/>
<origin xyz="0.0018228     -0.1988    0.019855" rpy="-0.23839    0.042417      -1.238"/>
</sensor>
<!-- Sensor  7-->
<sensor name="RightHand_gyro" type="gyroscope">
<parent link="RightHand"/>
<origin xyz="3.4392e-08   -0.055431    0.020157" rpy="-0.1235    0.039699     -1.3751"/>
</sensor>
<sensor name="RightHand_accelerometer" type="accelerometer">
<parent link="RightHand"/>
<origin xyz="3.4392e-08   -0.055431    0.020157" rpy="-0.1235    0.039699     -1.3751"/>
</sensor>
<!-- Sensor  8-->
<sensor name="LeftShoulder_gyro" type="gyroscope">
<parent link="LeftShoulder"/>
<origin xyz="-0.022421    0.056053   -0.067264" rpy="-1.3117     -0.3446      1.3956"/>
</sensor>
<sensor name="LeftShoulder_accelerometer" type="accelerometer">
<parent link="LeftShoulder"/>
<origin xyz="-0.022421    0.056053   -0.067264" rpy="-1.3117     -0.3446      1.3956"/>
</sensor>
<!-- Sensor  9-->
<sensor name="LeftUpperArm_gyro" type="gyroscope">
<parent link="LeftUpperArm"/>
<origin xyz="-0.019597    0.097989    0.019598" rpy="0.10179    0.025936      1.4178"/>
</sensor>
<sensor name="LeftUpperArm_accelerometer" type="accelerometer">
<parent link="LeftUpperArm"/>
<origin xyz="-0.019597    0.097989    0.019598" rpy="0.10179    0.025936      1.4178"/>
</sensor>
<!-- Sensor  10-->
<sensor name="LeftForeArm_gyro" type="gyroscope">
<parent link="LeftForeArm"/>
<origin xyz="0.0018196      0.1988    0.019876" rpy="0.33797   -0.011593      1.2119"/>
</sensor>
<sensor name="LeftForeArm_accelerometer" type="accelerometer">
<parent link="LeftForeArm"/>
<origin xyz="0.0018196      0.1988    0.019876" rpy="0.33797   -0.011593      1.2119"/>
</sensor>
<!-- Sensor  11-->
<sensor name="LeftHand_gyro" type="gyroscope">
<parent link="LeftHand"/>
<origin xyz="1.4957e-06    0.055432    0.020158" rpy="0.20961    0.078707      1.2361"/>
</sensor>
<sensor name="LeftHand_accelerometer" type="accelerometer">
<parent link="LeftHand"/>
<origin xyz="1.4957e-06    0.055432    0.020158" rpy="0.20961    0.078707      1.2361"/>
</sensor>
<!-- Sensor  12-->
<sensor name="RightUpperLeg_gyro" type="gyroscope">
<parent link="RightUpperLeg"/>
<origin xyz="0.015207   -0.053543    -0.31632" rpy="2.7056      1.3522      1.1266"/>
</sensor>
<sensor name="RightUpperLeg_accelerometer" type="accelerometer">
<parent link="RightUpperLeg"/>
<origin xyz="0.015207   -0.053543    -0.31632" rpy="2.7056      1.3522      1.1266"/>
</sensor>
<!-- Sensor  13-->
<sensor name="RightLowerLeg_gyro" type="gyroscope">
<parent link="RightLowerLeg"/>
<origin xyz="0.031416   0.0071913    -0.13516" rpy="-3.0013      1.5099      -2.862"/>
</sensor>
<sensor name="RightLowerLeg_accelerometer" type="accelerometer">
<parent link="RightLowerLeg"/>
<origin xyz="0.031416   0.0071913    -0.13516" rpy="-3.0013      1.5099      -2.862"/>
</sensor>
<!-- Sensor  14-->
<sensor name="RightFoot_gyro" type="gyroscope">
<parent link="RightFoot"/>
<origin xyz="0.094314   0.0015696   -0.013315" rpy="0.19638     0.42312    0.033114"/>
</sensor>
<sensor name="RightFoot_accelerometer" type="accelerometer">
<parent link="RightFoot"/>
<origin xyz="0.094314   0.0015696   -0.013315" rpy="0.19638     0.42312    0.033114"/>
</sensor>
<!-- Sensor  15-->
<sensor name="LeftUpperLeg_gyro" type="gyroscope">
<parent link="LeftUpperLeg"/>
<origin xyz="0.015207    0.053543    -0.31632" rpy="2.7741      1.4429     -1.9595"/>
</sensor>
<sensor name="LeftUpperLeg_accelerometer" type="accelerometer">
<parent link="LeftUpperLeg"/>
<origin xyz="0.015207    0.053543    -0.31632" rpy="2.7741      1.4429     -1.9595"/>
</sensor>
<!-- Sensor  16-->
<sensor name="LeftLowerLeg_gyro" type="gyroscope">
<parent link="LeftLowerLeg"/>
<origin xyz="0.031416  -0.0071914    -0.13516" rpy="2.5557      1.4555      2.3984"/>
</sensor>
<sensor name="LeftLowerLeg_accelerometer" type="accelerometer">
<parent link="LeftLowerLeg"/>
<origin xyz="0.031416  -0.0071914    -0.13516" rpy="2.5557      1.4555      2.3984"/>
</sensor>
<!-- Sensor  17-->
<sensor name="LeftFoot_gyro" type="gyroscope">
<parent link="LeftFoot"/>
<origin xyz="0.094314  -0.0015696   -0.013315" rpy="-0.36816     0.44411     0.22503"/>
</sensor>
<sensor name="LeftFoot_accelerometer" type="accelerometer">
<parent link="LeftFoot"/>
<origin xyz="0.094314  -0.0015696   -0.013315" rpy="-0.36816     0.44411     0.22503"/>
</sensor>


</robot>
